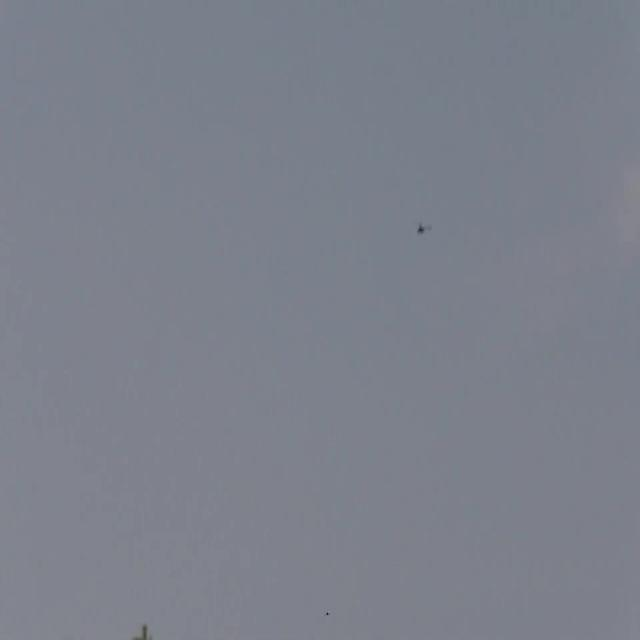CIV_HELO: (417, 223, 432, 235)
